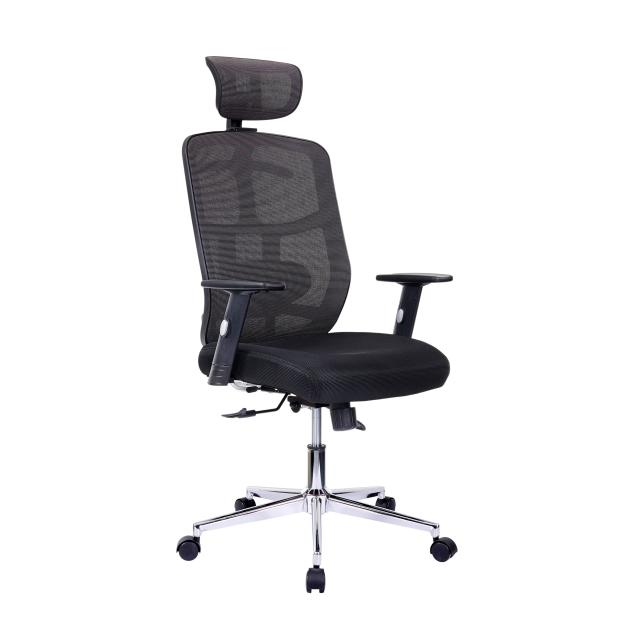chair: (176, 54, 458, 594)
